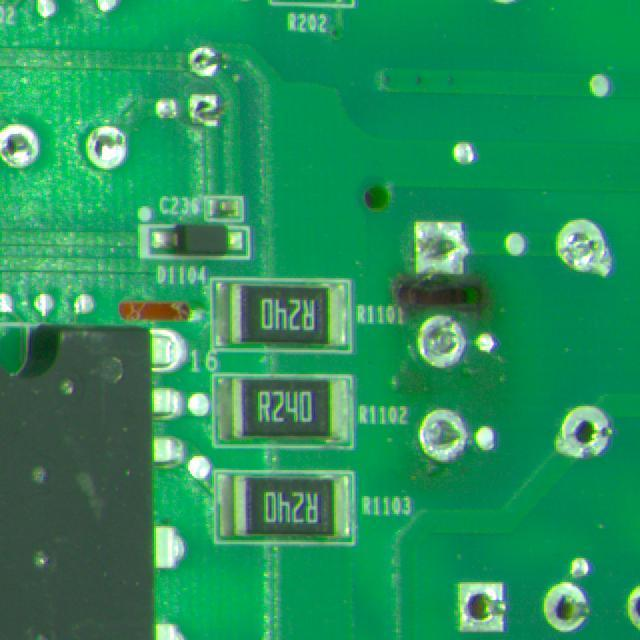oppostie_direction: (556, 219, 613, 276), (555, 406, 612, 458), (416, 221, 469, 273), (418, 315, 466, 367), (419, 409, 466, 462), (459, 582, 506, 632), (544, 581, 590, 632), (86, 126, 127, 169), (0, 124, 40, 168), (189, 95, 219, 126), (189, 46, 219, 76), (570, 556, 592, 579), (577, 423, 594, 442)
